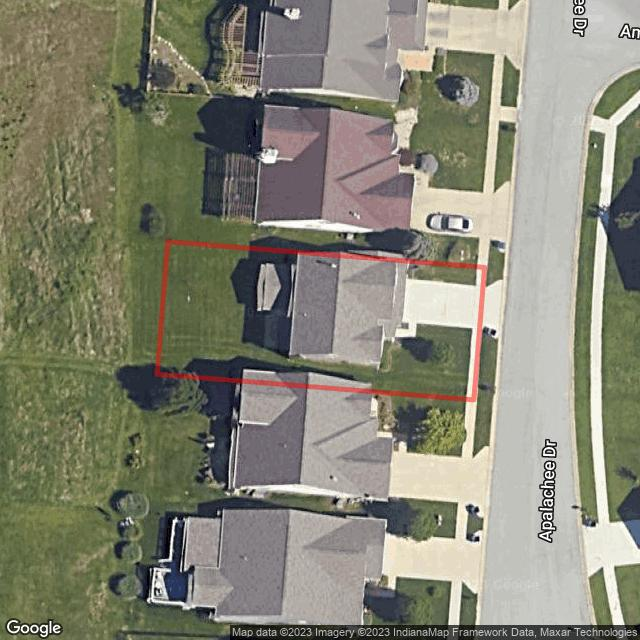Driveway: (395, 278, 480, 338)
Extra Driveway: (483, 280, 503, 339)
Extra Lawn: (476, 327, 499, 403), (485, 265, 504, 287)
House: (257, 255, 406, 366)
Other: (242, 368, 375, 390), (262, 310, 291, 354)
Sidewalk: (466, 328, 477, 397), (477, 269, 482, 285)
